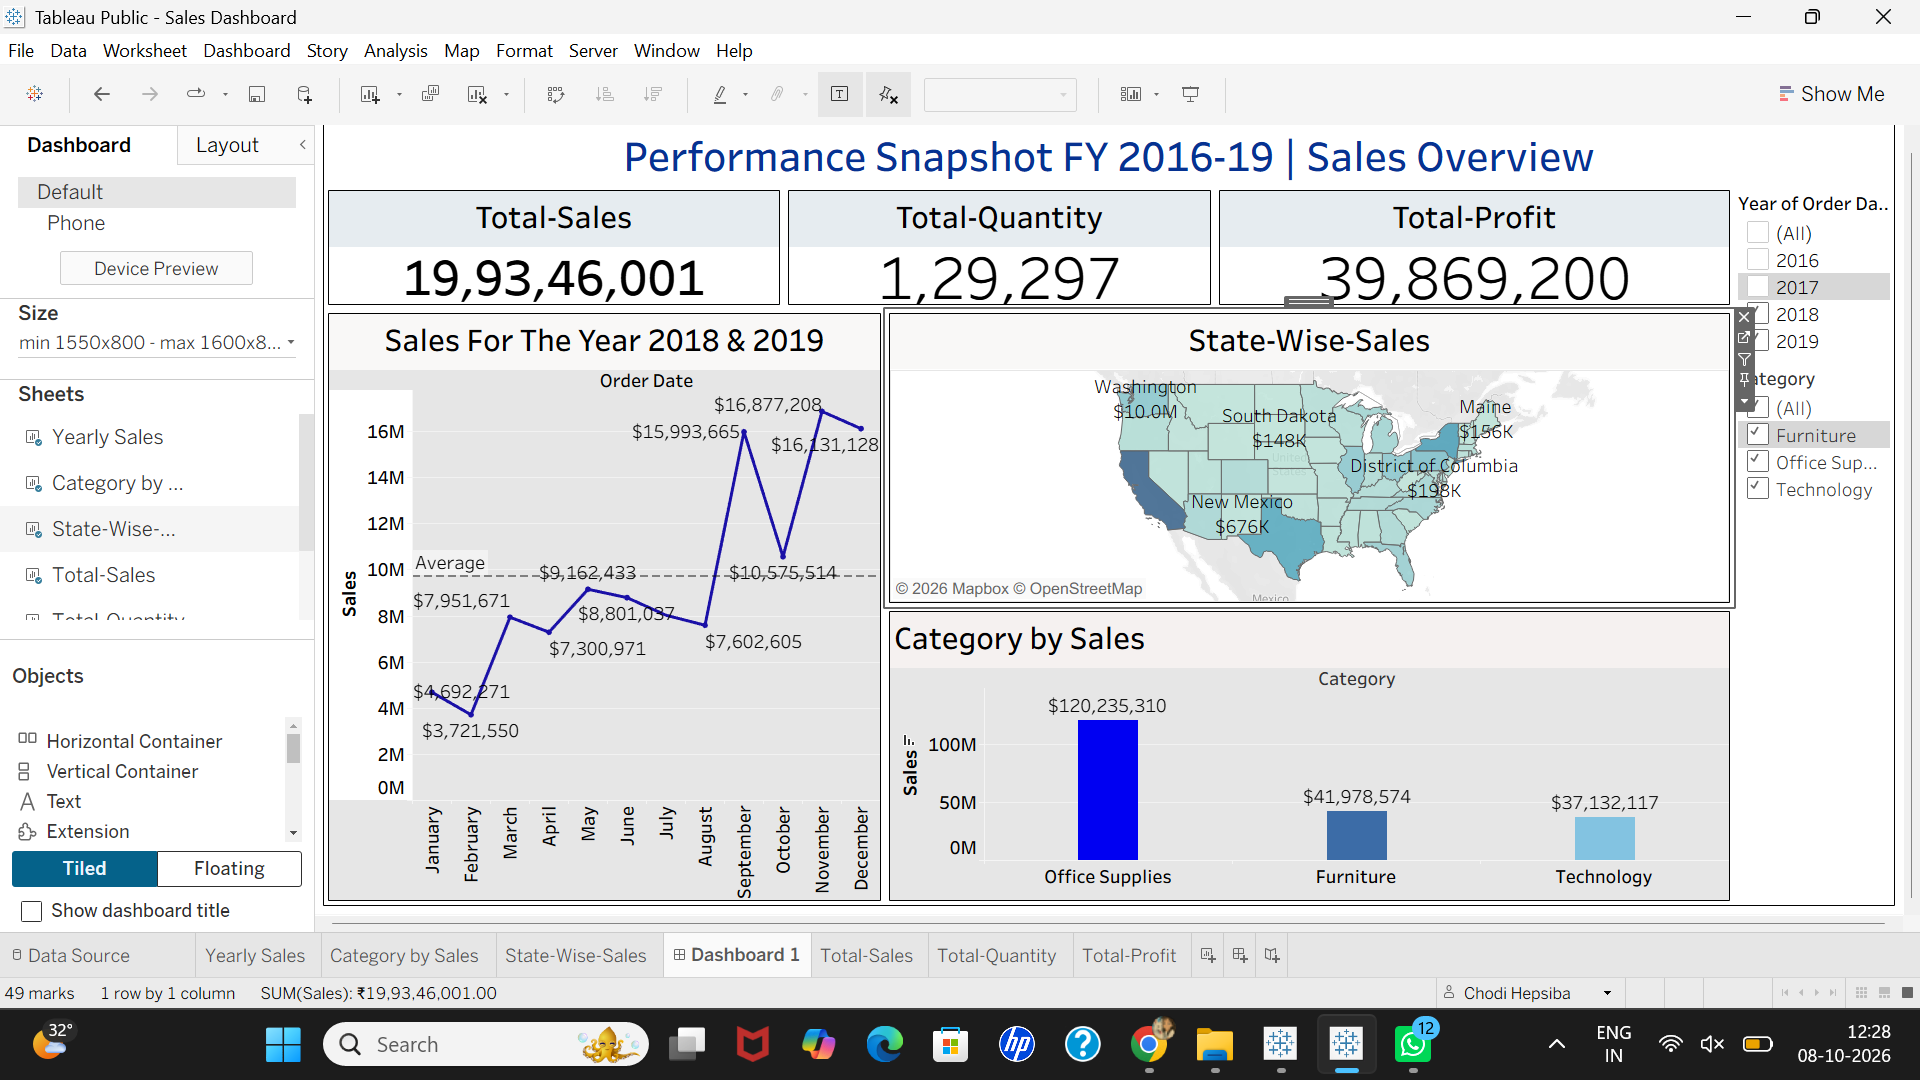

This screenshot's page, from the dashboard's own definition file:
{"tool":"tableau","page":{"name":"Dashboard 1","canvas":[1000,1000],"units":"permille","ordinal":0},"visuals":[{"type":"title","box":[5.7,11.2,988.7,78.8]},{"type":"worksheet","title":"Total-Sales","mark":"Automatic","box":[5.7,90,289.7,153.6]},{"type":"worksheet","title":"Total-Quantity","mark":"Automatic","box":[295.3,90,271.4,153.6]},{"type":"worksheet","title":"Total-Profit","mark":"Automatic","box":[566.7,90,326.8,153.6]},{"type":"filter","title":"Yearly Sales","param":"[federated.1pdc1s70znvg9012x9b6g17o9ash].[yr:Order Date:ok]","box":[893.6,90,100.8,218.8]},{"type":"worksheet","title":"Yearly Sales","mark":"Automatic","rows":["Sales"],"cols":["Order Date"],"box":[5.7,243.6,353.4,745.1]},{"type":"worksheet","title":"State-Wise-Sales","mark":"Automatic","box":[359.1,243.6,534.5,372.6]},{"type":"filter","title":"Category by Sales","param":"[federated.1pdc1s70znvg9012x9b6g17o9ash].[none:Category:nk]","box":[893.6,308.8,100.8,185]},{"type":"worksheet","title":"Category by Sales","mark":"Automatic","rows":["Sales"],"cols":["Category"],"box":[359.1,616.2,534.5,372.6]}]}

Visuals, with their boxes on the dashboard's canvas, which has no fixed pixel size, in thousandths of its width and height (x1, y1, x2, y2). These are canvas units, not pixel positions in the 1920x1080 screenshot, which may show the page scaled, cropped or inside an application window:
title: box=[6, 11, 994, 90]
"Total-Sales" worksheet: box=[6, 90, 295, 244]
"Total-Quantity" worksheet: box=[295, 90, 567, 244]
"Total-Profit" worksheet: box=[567, 90, 894, 244]
"Yearly Sales" filter: box=[894, 90, 994, 309]
"Yearly Sales" worksheet: box=[6, 244, 359, 989]
"State-Wise-Sales" worksheet: box=[359, 244, 894, 616]
"Category by Sales" filter: box=[894, 309, 994, 494]
"Category by Sales" worksheet: box=[359, 616, 894, 989]
